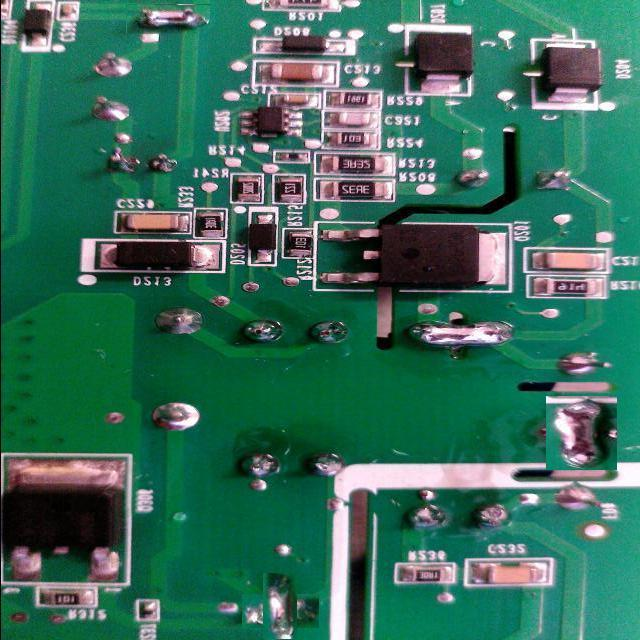Short_circuit: (546, 396, 617, 470), (398, 317, 522, 353), (253, 583, 308, 639), (126, 4, 210, 34)
